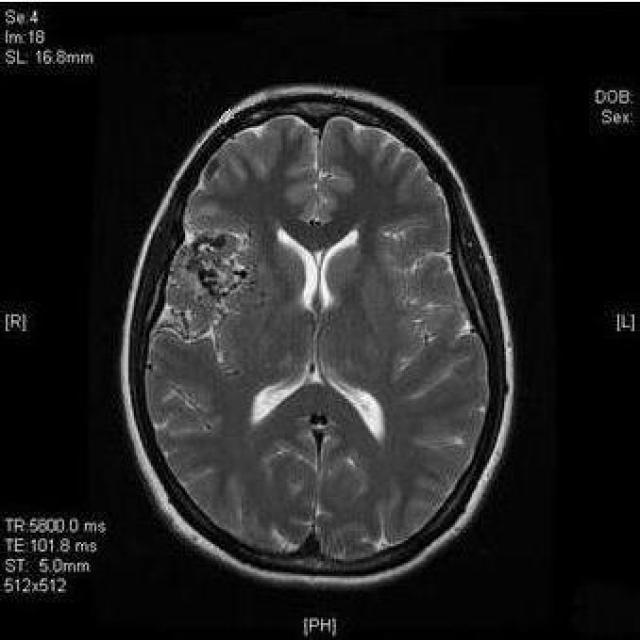notumor: (123, 87, 512, 585)
